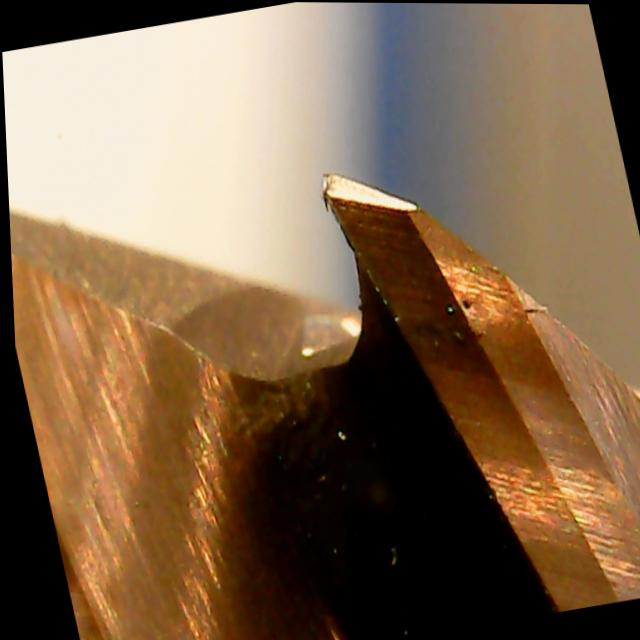Tool-wear-class-1: (267, 139, 497, 382)
